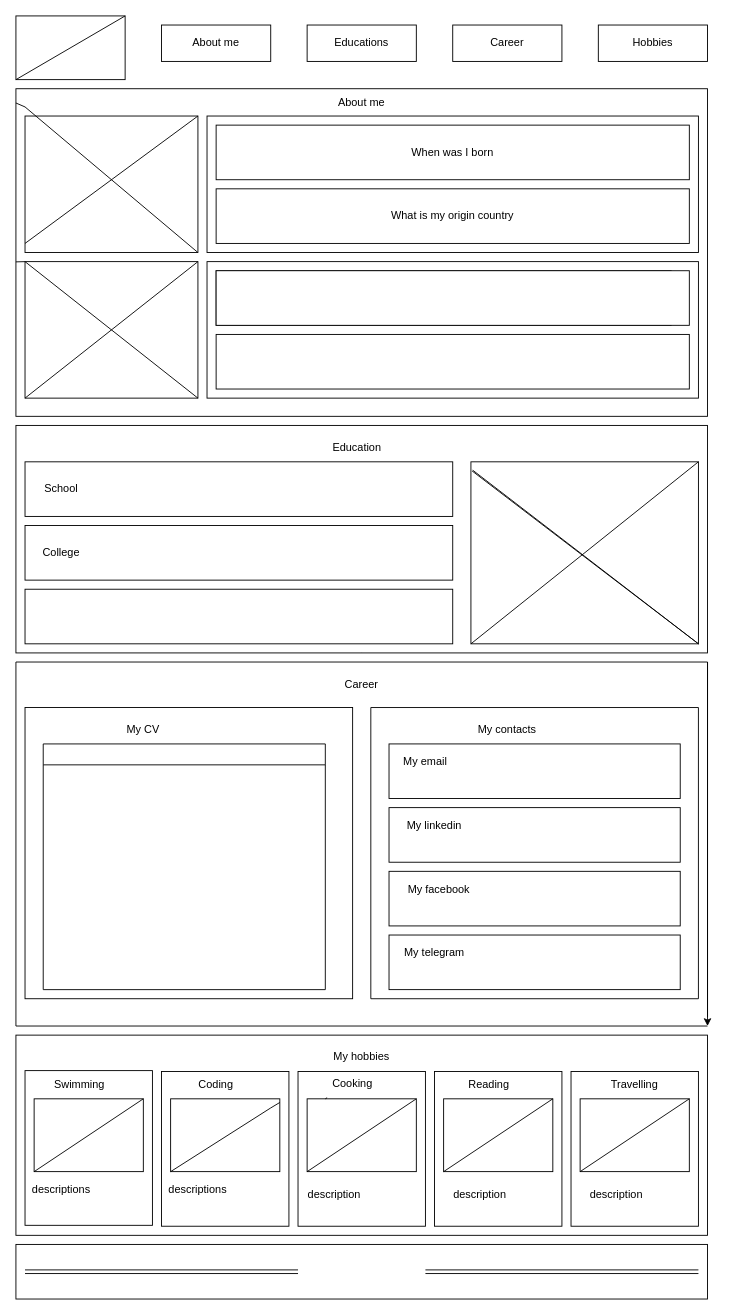
Some shapes in this 731 by 1315 pixel diagram are drawn without their labels. Here are the shapes that lost their labels. From the top down, the box of each, then its label:
(15, 15, 125, 80): Logo
(24, 588, 453, 644): Courses
(42, 743, 325, 990): Container
(15, 1244, 708, 1299): Personal website 2025
